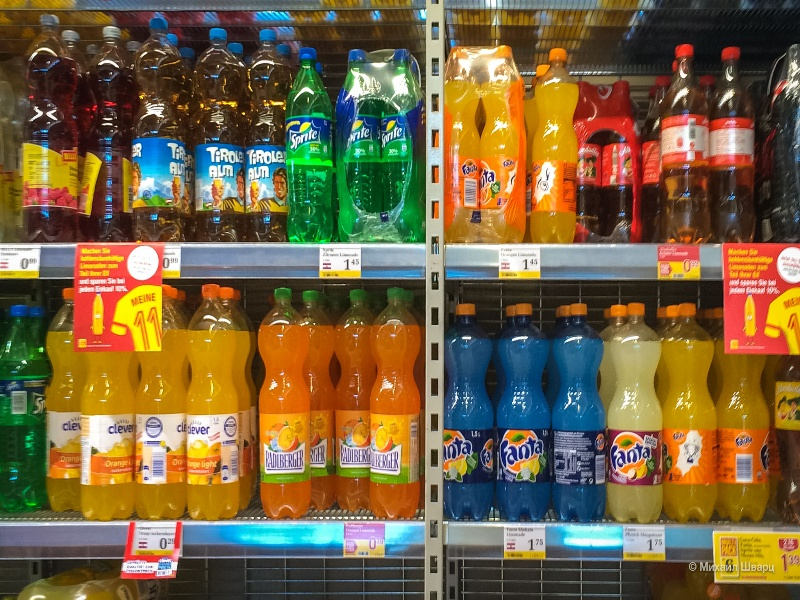lemonade: (608, 303, 662, 526), (658, 303, 712, 521), (370, 289, 419, 529), (24, 13, 74, 243), (191, 287, 238, 522), (705, 42, 759, 246), (134, 18, 183, 242), (193, 27, 244, 242), (260, 289, 308, 517), (498, 305, 548, 523), (1, 301, 48, 532), (446, 301, 495, 522), (553, 301, 602, 519), (241, 27, 288, 241), (712, 354, 769, 526), (335, 51, 385, 242), (85, 32, 130, 243), (659, 44, 706, 242), (290, 45, 336, 247), (482, 44, 528, 245), (380, 49, 427, 244), (333, 293, 373, 512), (530, 49, 574, 248), (440, 47, 481, 241)
